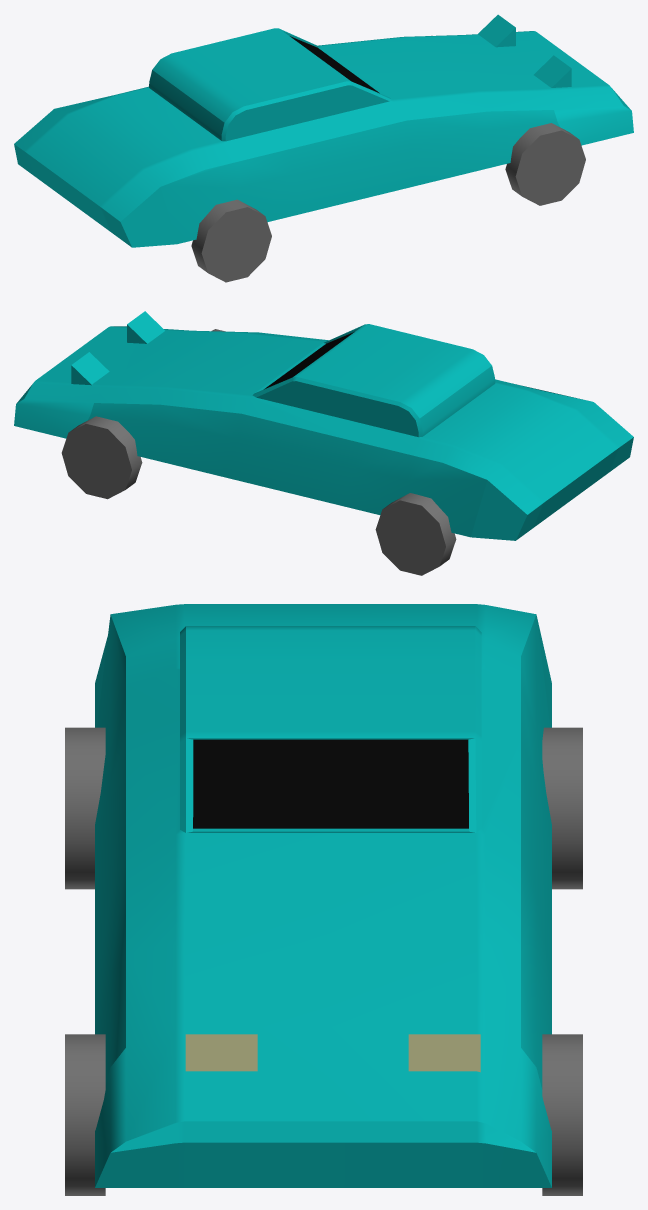
Rendered from SM_SportCar.fbx.
The picture shows the model from 3 angles, top to bottom: view 1: azimuth 30°, elevation 25°; view 2: azimuth 150°, elevation 25°; view 3: azimuth 270°, elevation 25°; orthographic projection. The views are drawn at different scales.
Parts seen in each view (by area): view 1: pCube18; view 2: pCube18; view 3: pCube18.
Boxes of the visible parts, x1,y1,x2,y2 form: pCube18: (14,14,633,282); pCube18: (14,311,633,575); pCube18: (65,604,582,1195).
Size of the model in its own units: 2.17 by 0.5725 by 0.9449.
